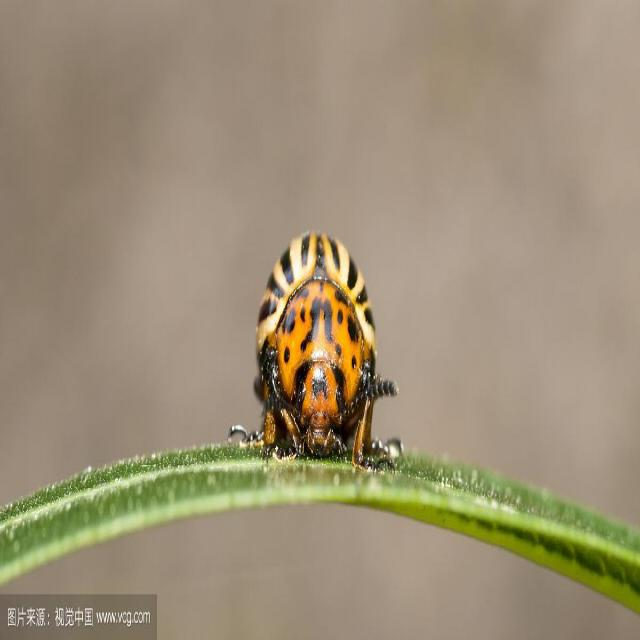ShuCaiHuaBanChong-Grown-: (230, 212, 410, 498)
